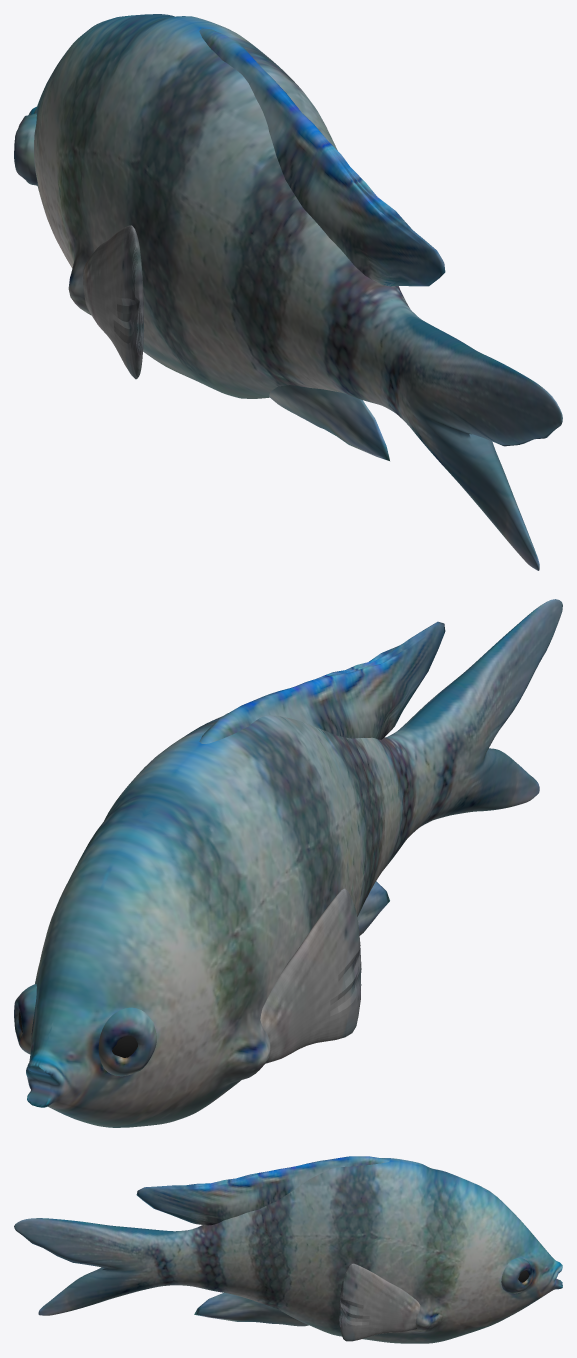
3 views of the same model, one above another, from view 1: azimuth 30°, elevation 25°; view 2: azimuth 150°, elevation 25°; view 3: azimuth 270°, elevation 25° (orthographic). The views are drawn at different scales.
Visible parts, largest first — view 1: Body_0, Top Fin_1, Side Fins_5, Bottom Fin_4, Eyes_2; view 2: Body_0, Top Fin_1, Side Fins_5, Eyes_2, Bottom Fin_4; view 3: Body_0, Top Fin_1, Side Fins_5, Bottom Fin_4, Eyes_2.
Part boxes in pixels (box(x1,y1,x2,y2)): Body_0: box(28, 14, 562, 570); Top Fin_1: box(199, 28, 445, 286); Side Fins_5: box(83, 225, 144, 379); Bottom Fin_4: box(269, 385, 389, 460); Eyes_2: box(14, 113, 37, 185); Body_0: box(26, 599, 562, 1127); Top Fin_1: box(199, 621, 445, 743); Side Fins_5: box(260, 888, 361, 1063); Eyes_2: box(14, 984, 156, 1076); Bottom Fin_4: box(357, 881, 389, 935); Body_0: box(14, 1158, 562, 1343); Top Fin_1: box(136, 1156, 389, 1225); Side Fins_5: box(339, 1263, 420, 1341); Bottom Fin_4: box(194, 1293, 308, 1326); Eyes_2: box(501, 1258, 533, 1293).
Size of the model in its own units: 0.9736 by 1.45 by 3.92.
Materials: 6 (5 with a texture image).
